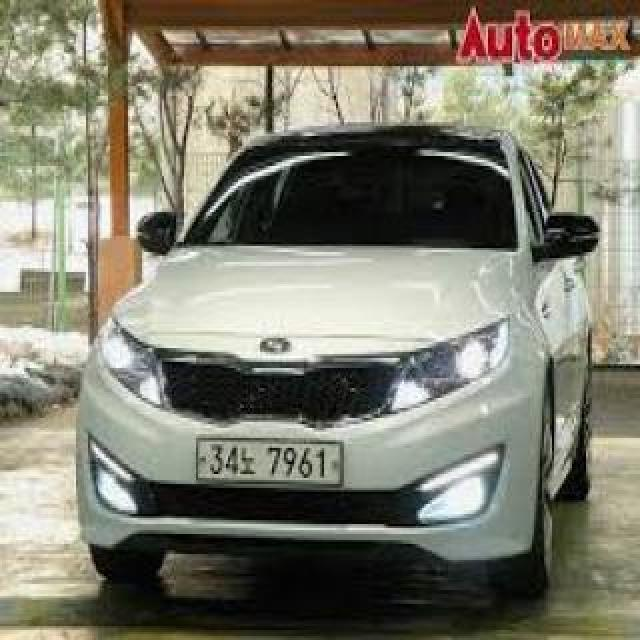car: (69, 115, 607, 609)
illegal_plate: (196, 433, 344, 494)
